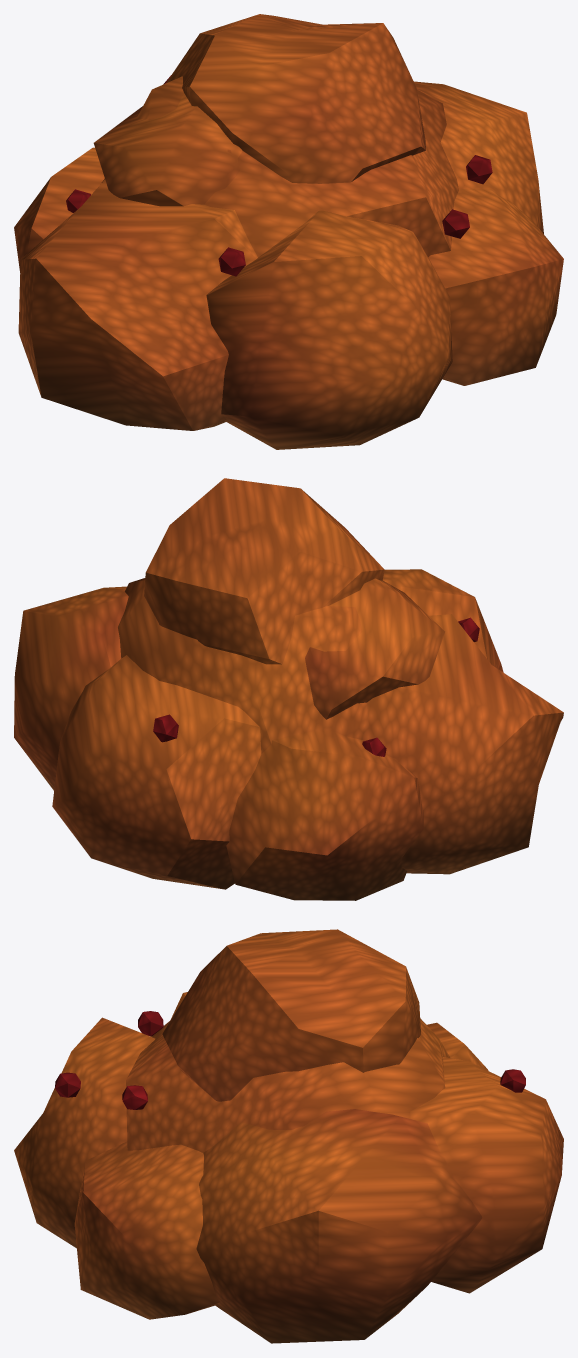
Rendered from fm_bush_autumn.glb.
3 renders of one model, top to bottom at view 1: azimuth 30°, elevation 25°; view 2: azimuth 150°, elevation 25°; view 3: azimuth 270°, elevation 25°, orthographic. The views are drawn at different scales.
Parts seen in each view (by area): view 1: fm_bush_autumn; view 2: fm_bush_autumn; view 3: fm_bush_autumn.
Part boxes in pixels (x1,y1,x2,y2): fm_bush_autumn: (14, 14, 563, 449); fm_bush_autumn: (14, 478, 563, 900); fm_bush_autumn: (14, 929, 563, 1343).
Bounding box in the file's own units: 1.74 × 1.05 × 1.65.
Materials: 1 (1 with a texture image).
